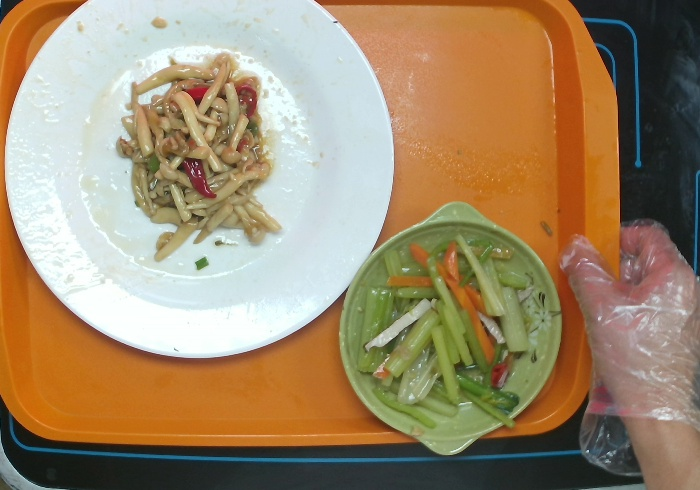NLDX-Da_Yuan_Pan: (3, 1, 407, 365)
NLDX-Lv_Hua_Shuang_Er_Die: (335, 195, 567, 459)
